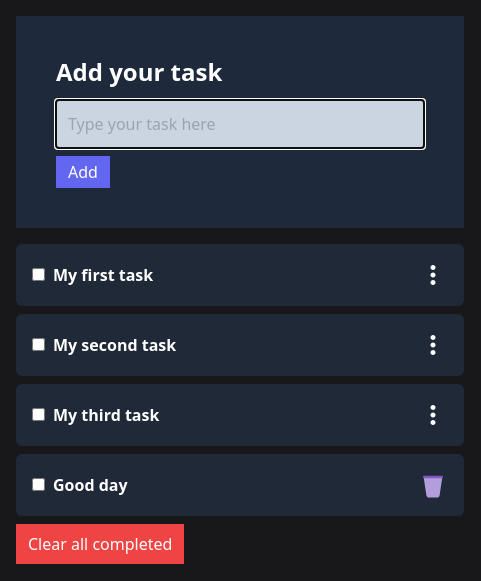
Test: TaskList, TaskForm and ButtonClear › should delete a task
The width and height of the screenshot is (481, 581).
Replace the text in the 4th field showing "Good day" with "Good Good day" at (208, 485), box [49,470,367,500]
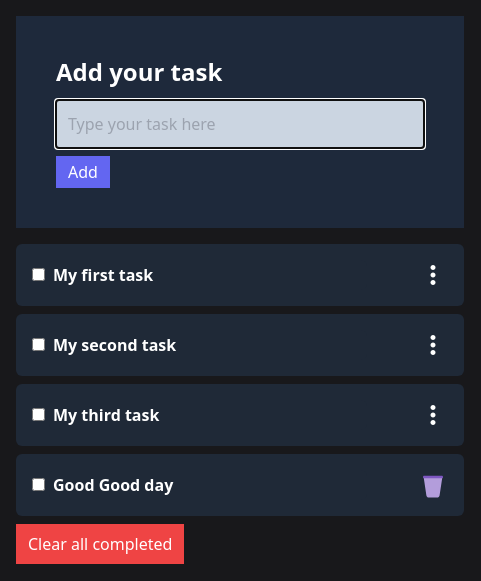
Click the icon with test id "trashIcon" at (433, 485), box [418,470,448,500]
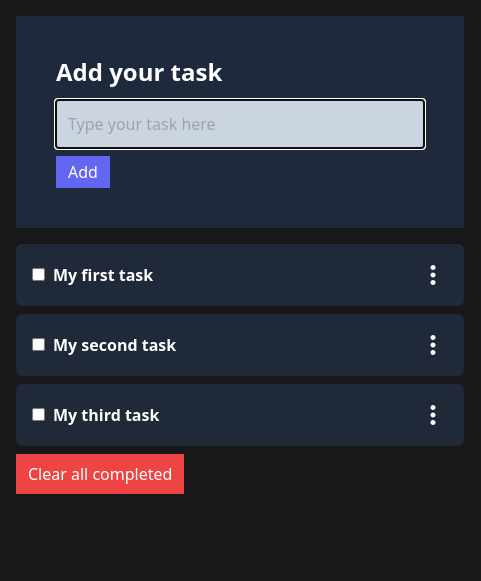
Now the number of fields named "task" is 3, box [49,260,367,290]; [49,330,367,360]; [49,400,367,430]
